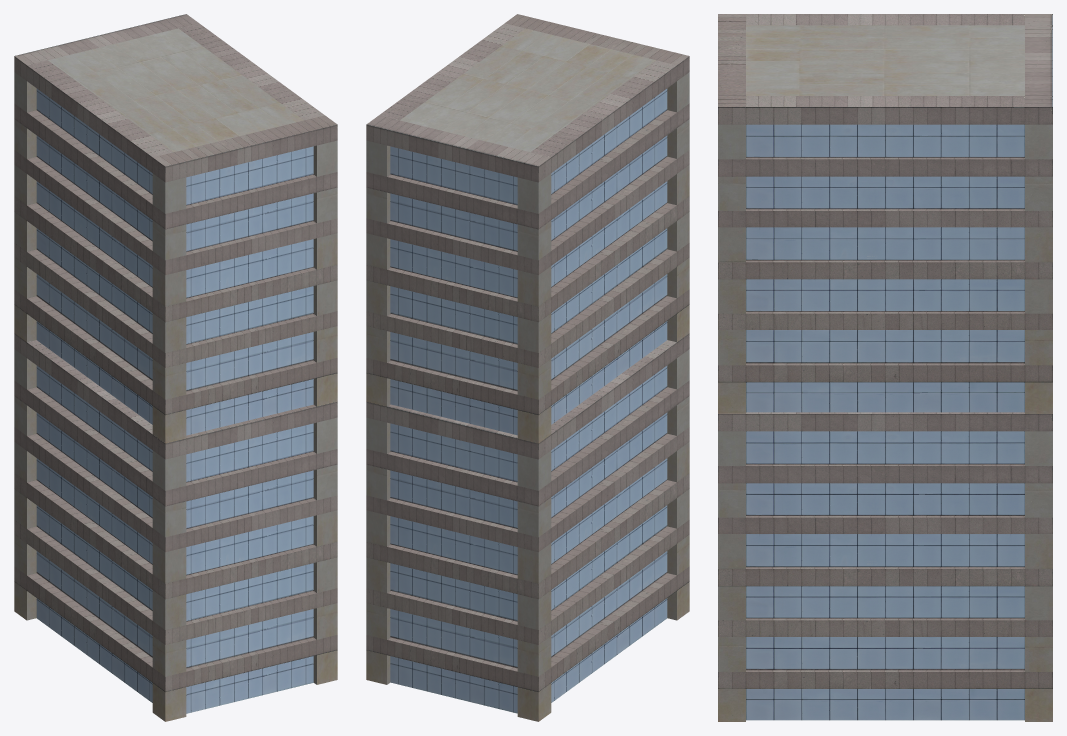
The model's file is house5.FBX.
The picture shows the model from 3 angles, left to right: view 1: azimuth 30°, elevation 25°; view 2: azimuth 150°, elevation 25°; view 3: azimuth 270°, elevation 25°; orthographic projection. The views are drawn at different scales.
Visible parts, largest first — view 1: Box001; view 2: Box001; view 3: Box001.
Part boxes in pixels (x1,y1,x2,y2): Box001: (14,14,337,721); Box001: (366,14,689,721); Box001: (718,14,1052,721).
Size of the model in its own units: 51.87 by 160 by 78.8.
